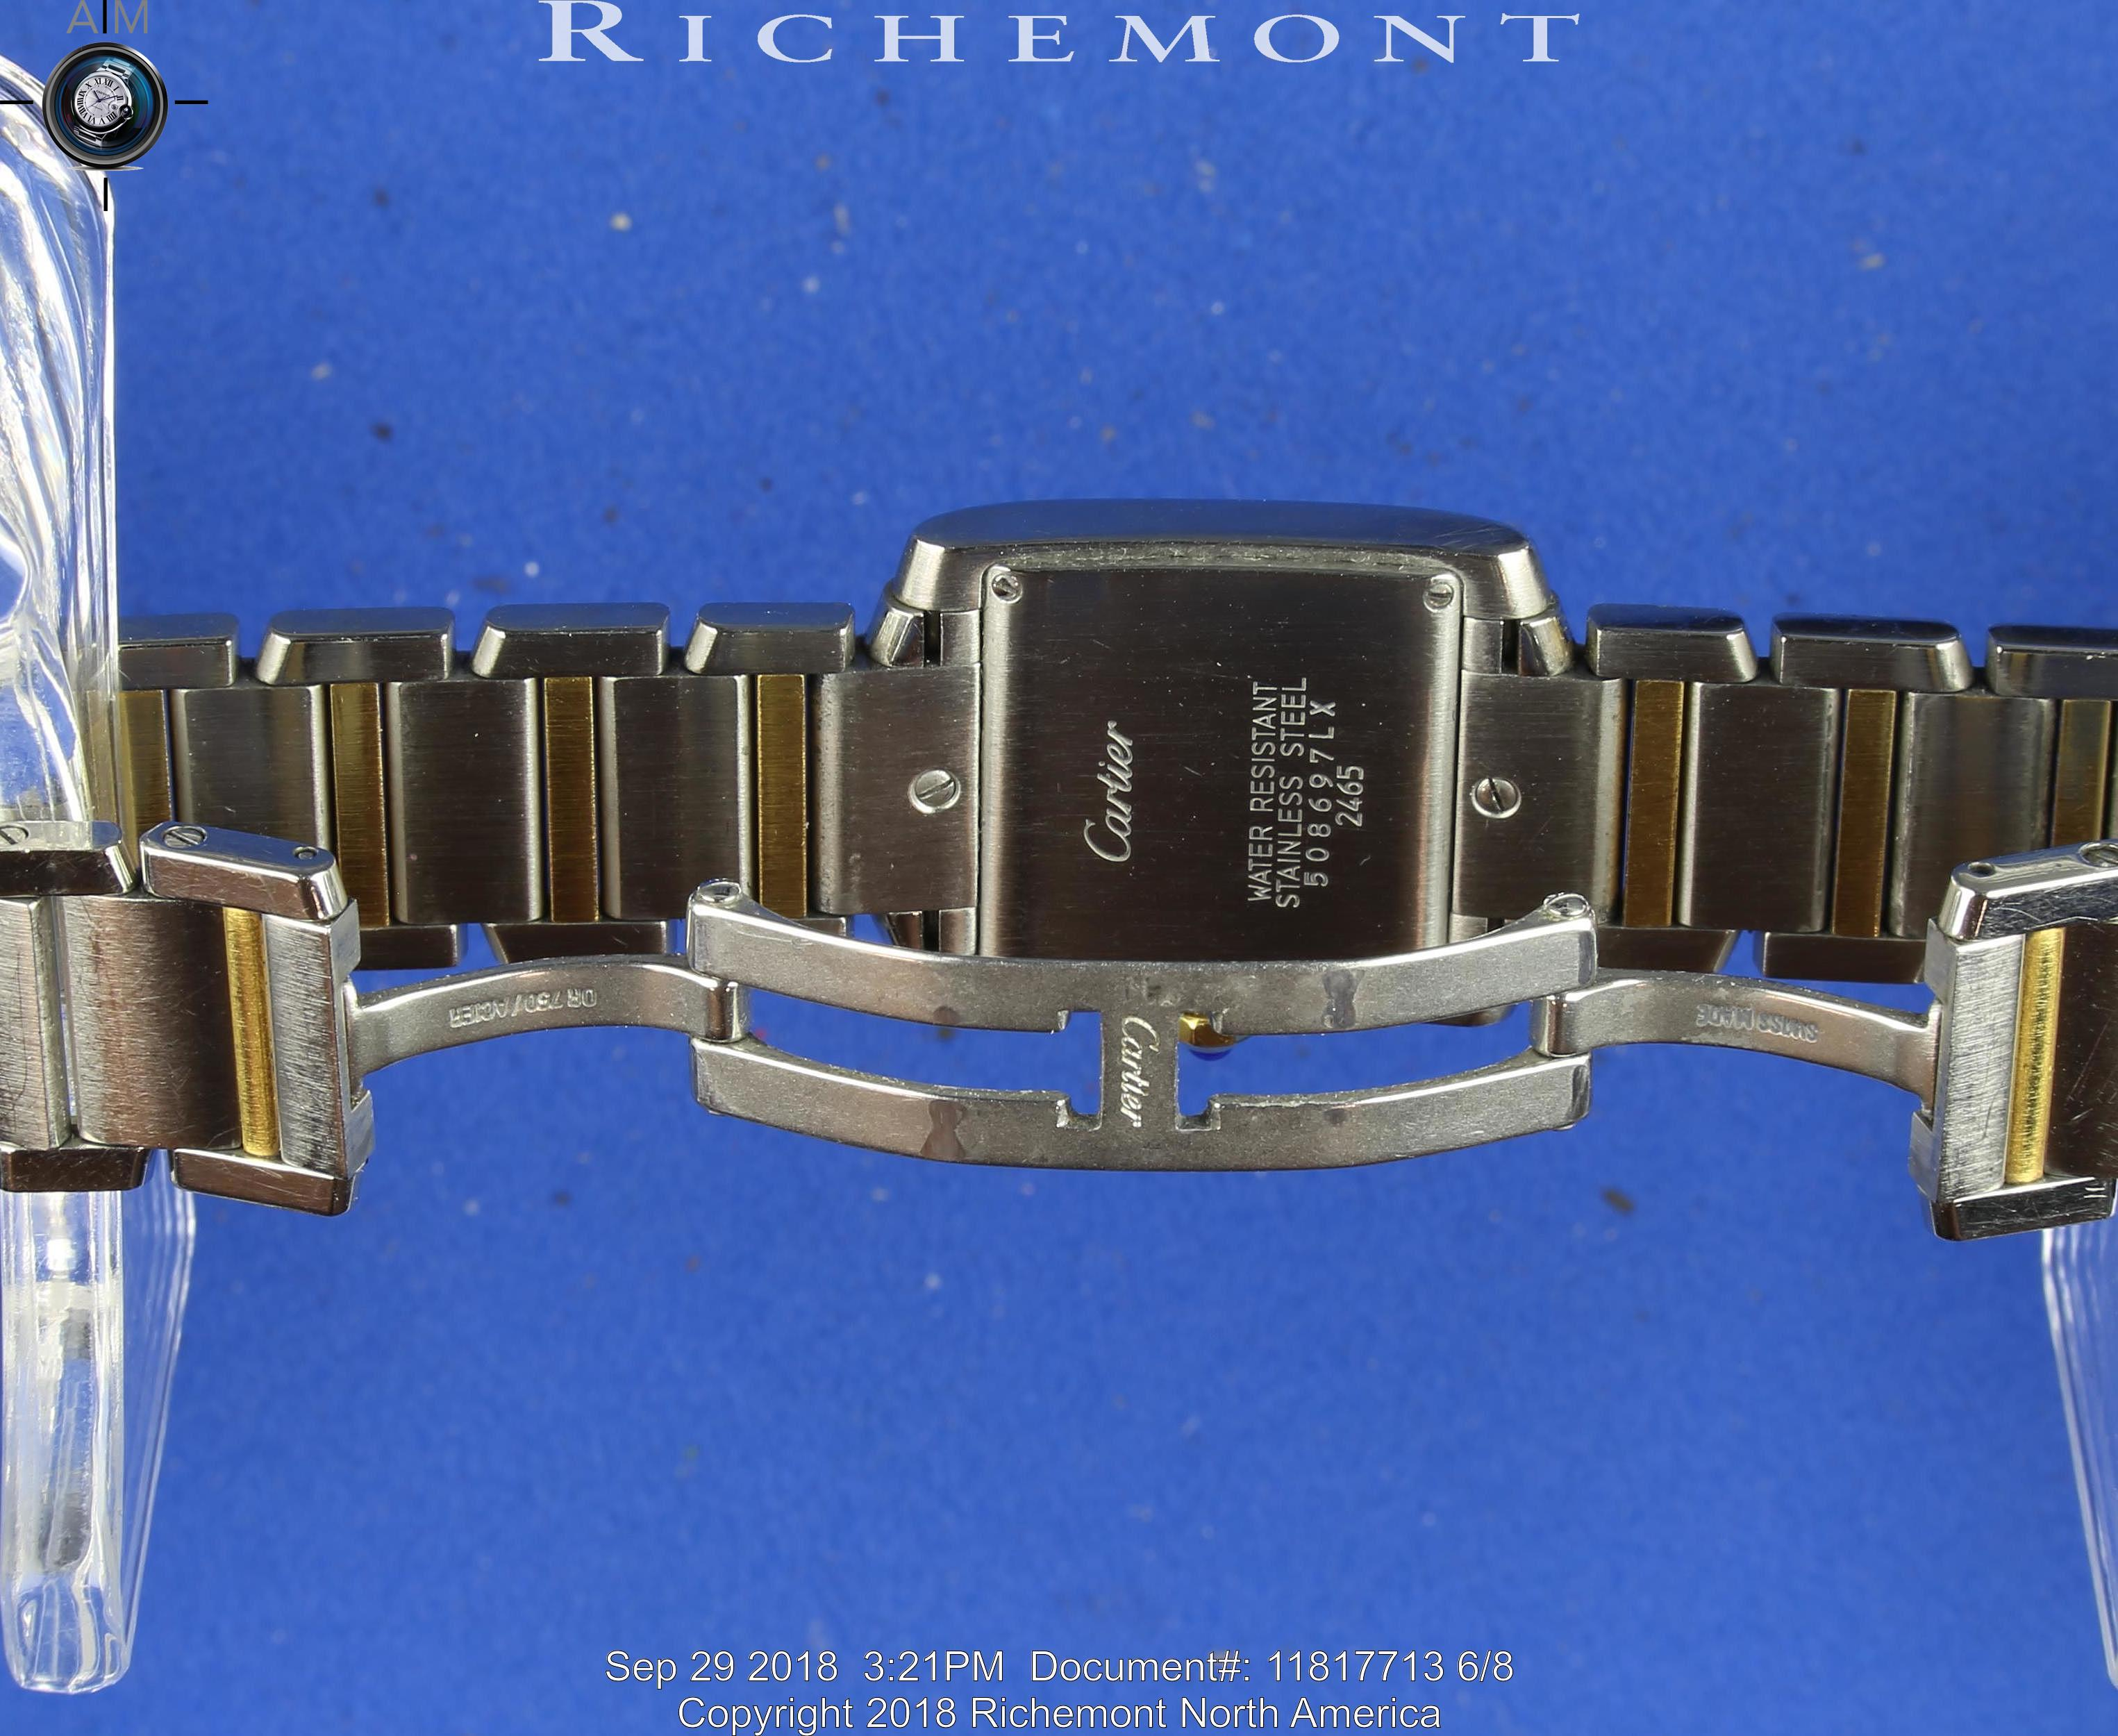watchback: (917, 515, 1460, 1039)
